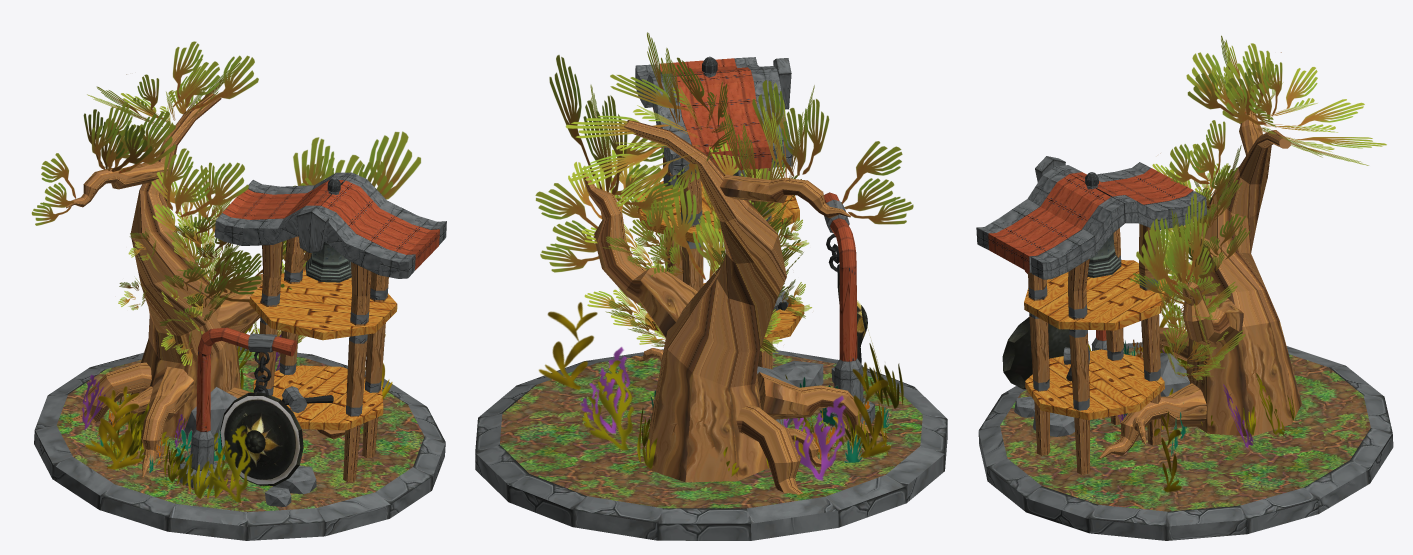
Rendered from tower_2.glb.
3 views of the same model, side by side, from view 1: azimuth 30°, elevation 25°; view 2: azimuth 150°, elevation 25°; view 3: azimuth 270°, elevation 25° (orthographic). The views are drawn at different scales.
Bounding box in the file's own units: 14.94 × 15.24 × 13.86.
14 materials, 14 textured.
